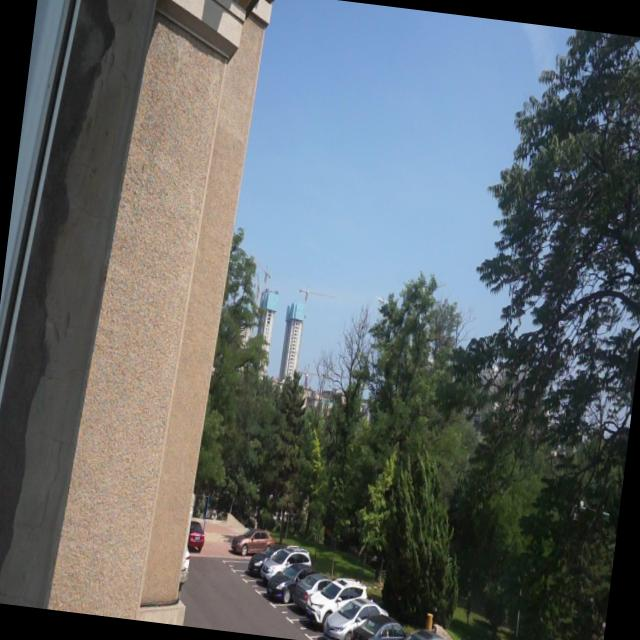drone: (375, 293, 387, 307)
